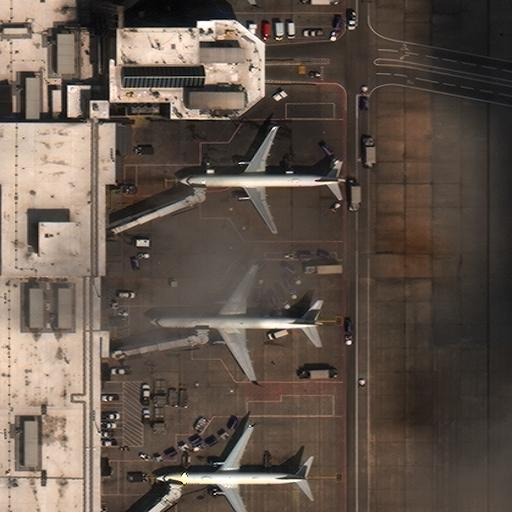Large Civil Transport: (147, 265, 325, 380)
Medium Civil Transport: (175, 127, 349, 233), (152, 426, 310, 512)
